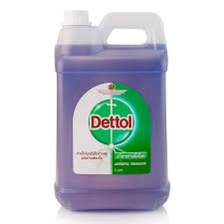cleaning_solution: (53, 4, 173, 216)
